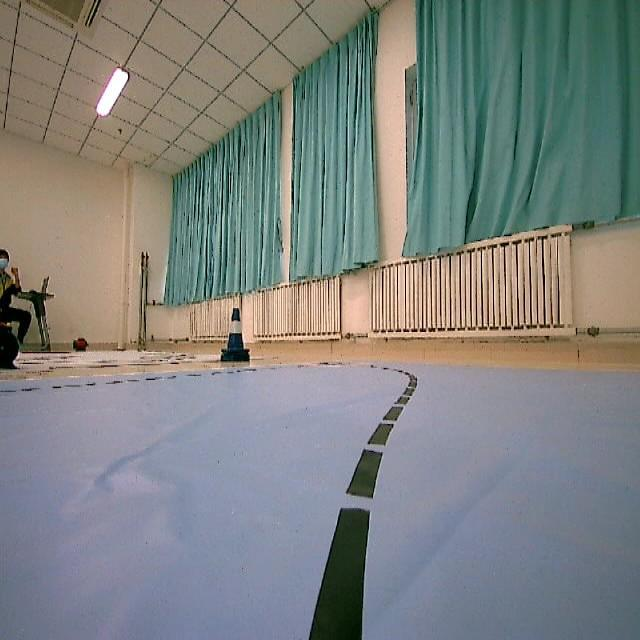obstacle: (220, 308, 248, 366)
